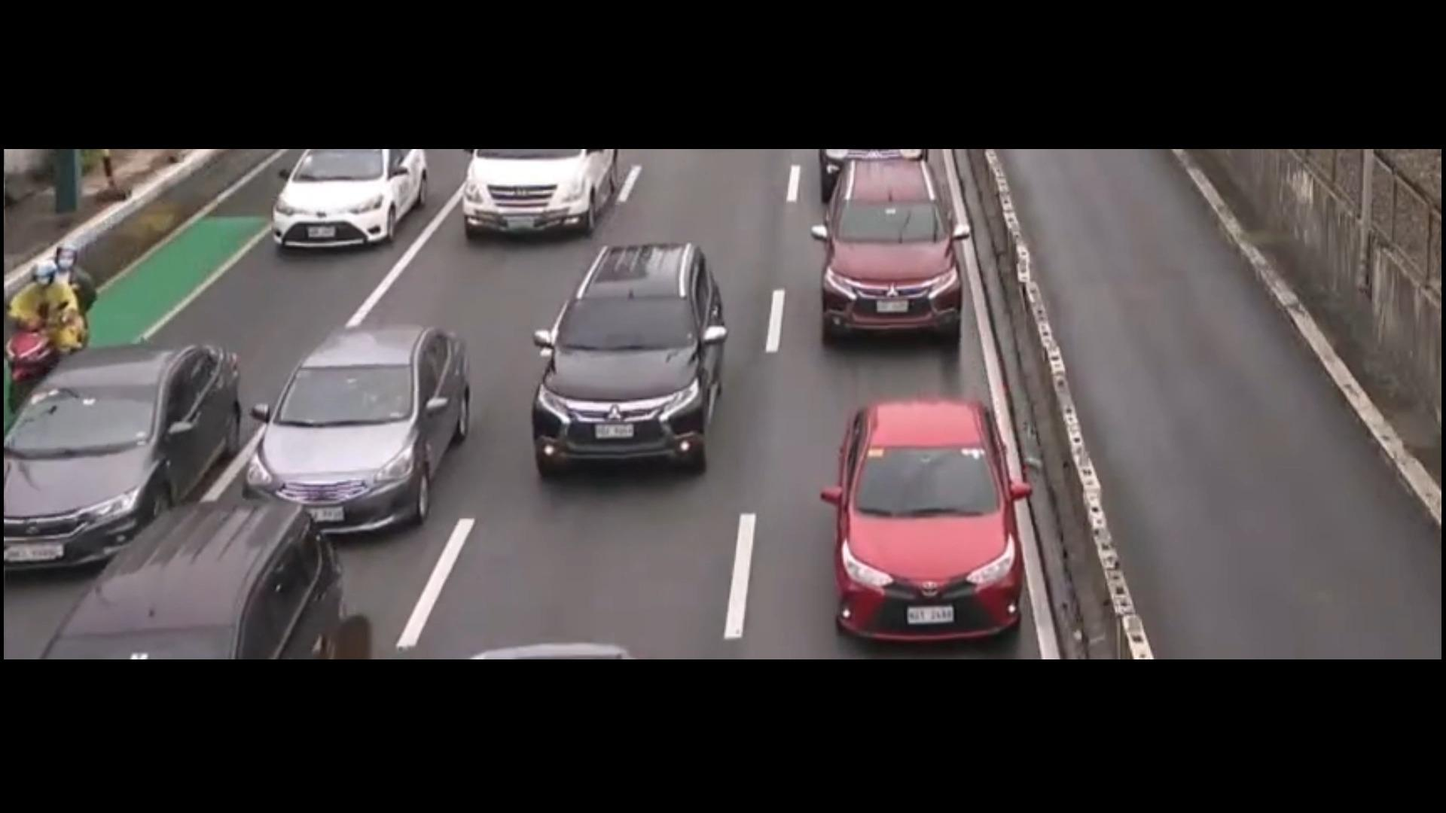Motorcycle: (0, 239, 89, 397)
SUV: (42, 486, 368, 659), (535, 224, 746, 490), (815, 145, 995, 356)
Sedan: (0, 322, 253, 573), (247, 307, 484, 543), (827, 409, 1053, 624), (257, 147, 444, 256)
